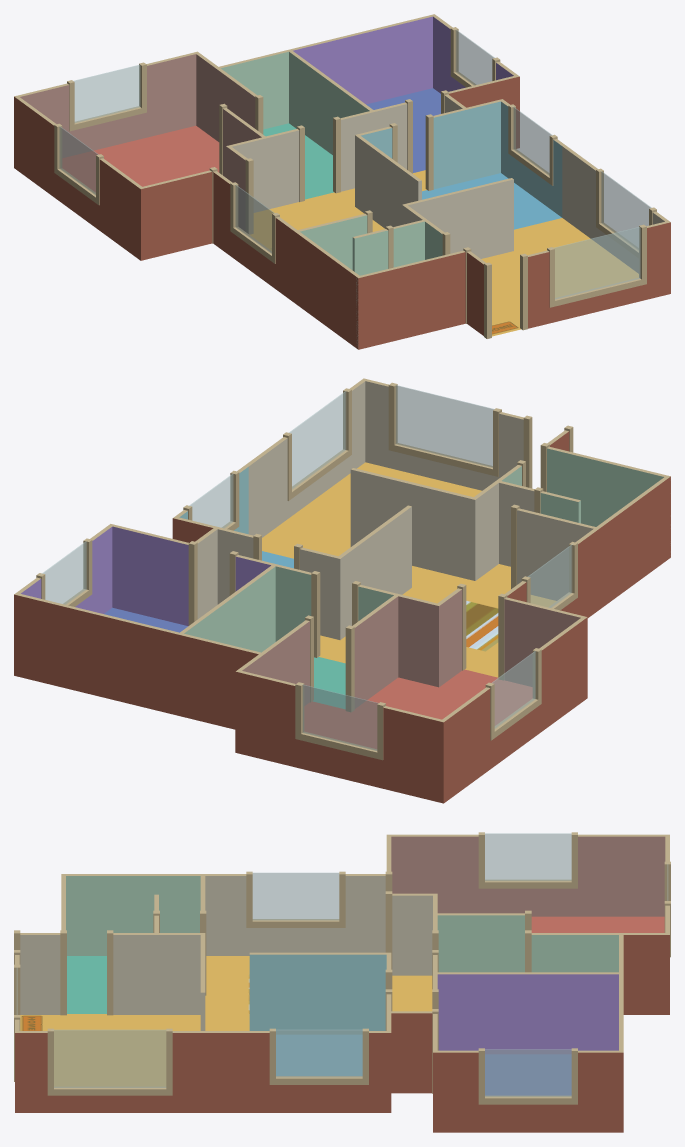
Rendered from interior.fbx.
3 views of the same model, one above another, from view 1: azimuth 30°, elevation 25°; view 2: azimuth 150°, elevation 25°; view 3: azimuth 270°, elevation 25° (orthographic). The views are drawn at different scales.
Visible parts, largest first — view 1: interior; view 2: interior; view 3: interior.
Part boxes in pixels (box(x1,y1,x2,y2)): interior: box(14, 14, 670, 349); interior: box(14, 378, 670, 803); interior: box(14, 832, 670, 1132).
Size of the model in its own units: 223 by 39 by 283.
9 materials, 1 textured.
